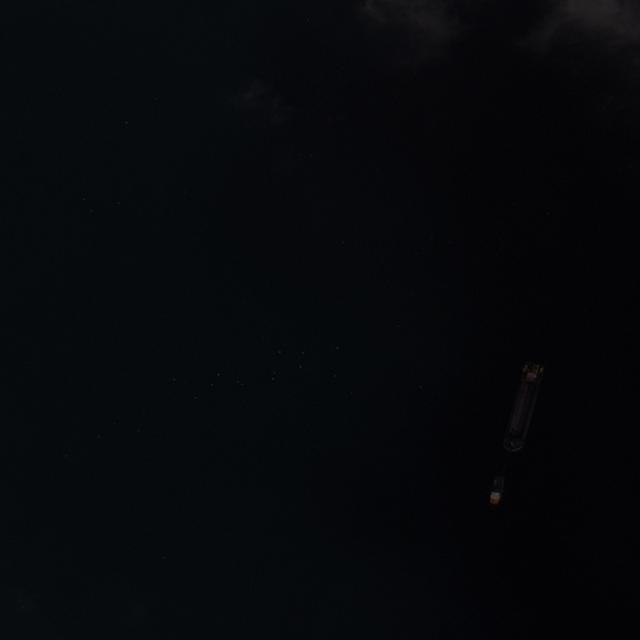Container Ship: (498, 358, 547, 457)
Other Ship: (488, 476, 506, 505)
